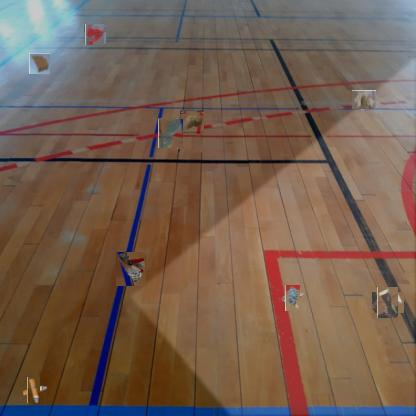dirty: (116, 252, 146, 286), (375, 289, 401, 316), (180, 110, 204, 134), (354, 89, 375, 111), (29, 53, 50, 74), (283, 288, 303, 309), (24, 381, 44, 400)
liquid: (158, 118, 183, 148), (85, 24, 105, 45)
